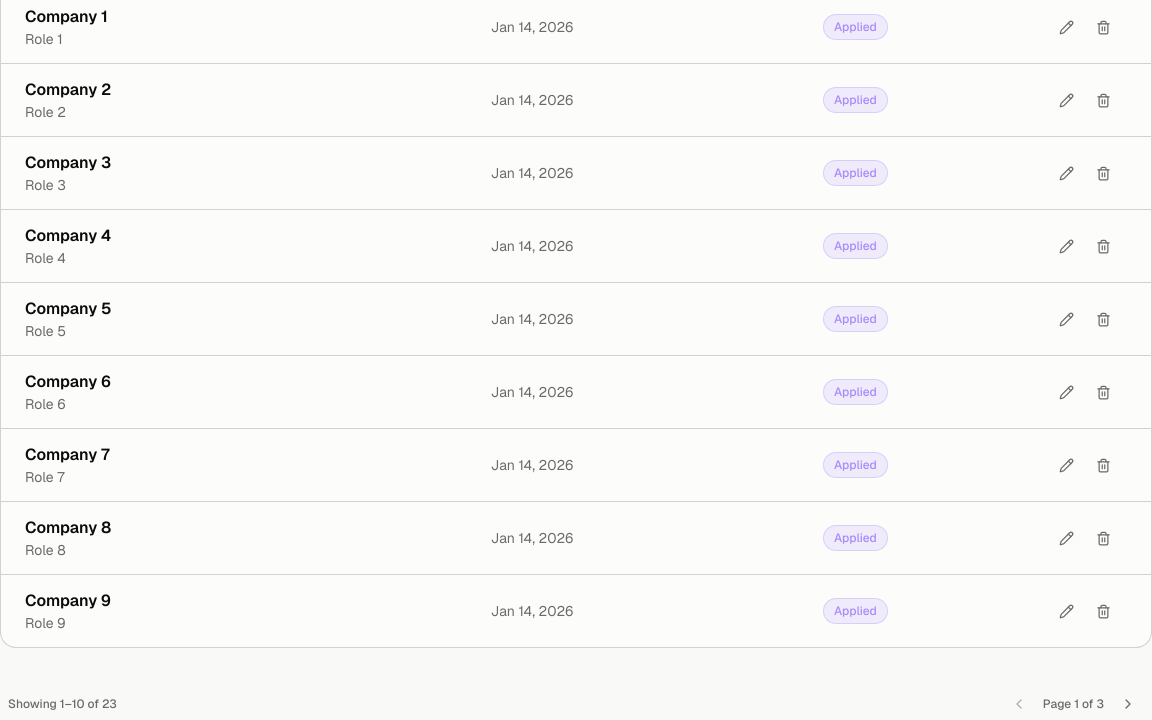
Test case: ApplicationsTable › paginates at 10 per page and moves between pages
This screenshot has width=1152, height=720.
(page scrolled)
Check: the text "Page 1 of 3" is shown, box [1043,696,1104,712]
Check: the text "Showing 1–10 of 23" is shown, box [8,696,117,712]
Click the button named "Next page" at coordinates (1128, 704), box [1112,688,1144,719]
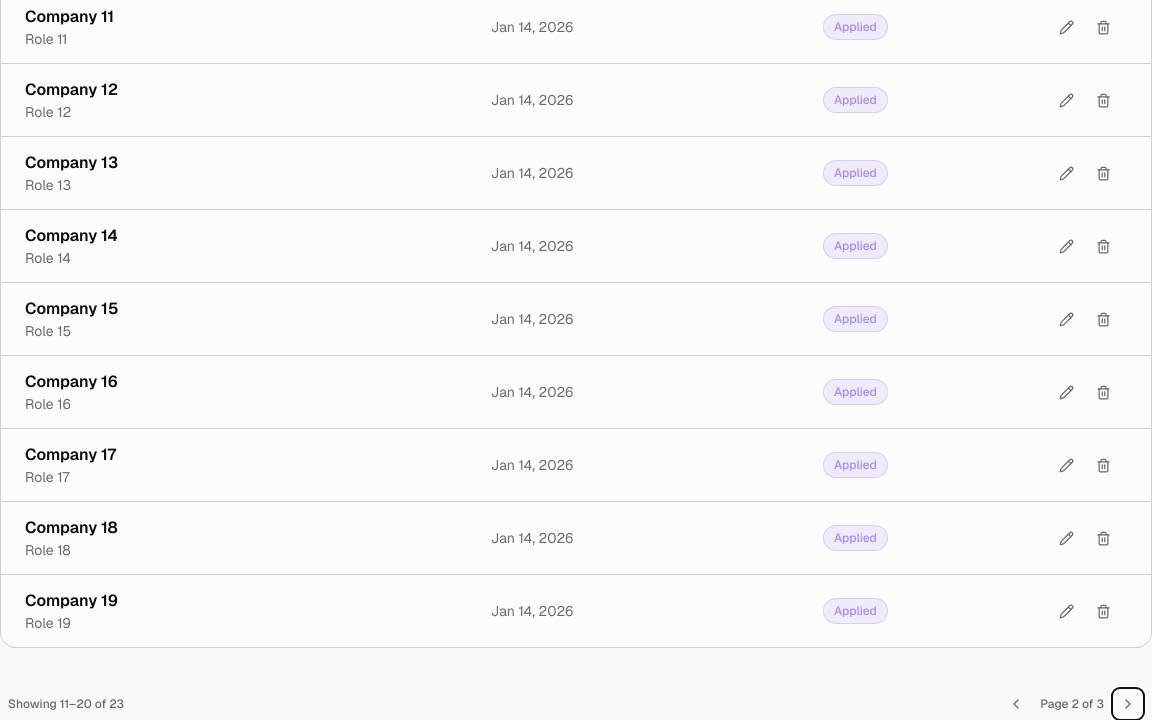
Check: the text "Page 2 of 3" is shown, box [1040,696,1104,712]
Click the button named "Previous page" at coordinates (1016, 704), box [1000,688,1032,719]
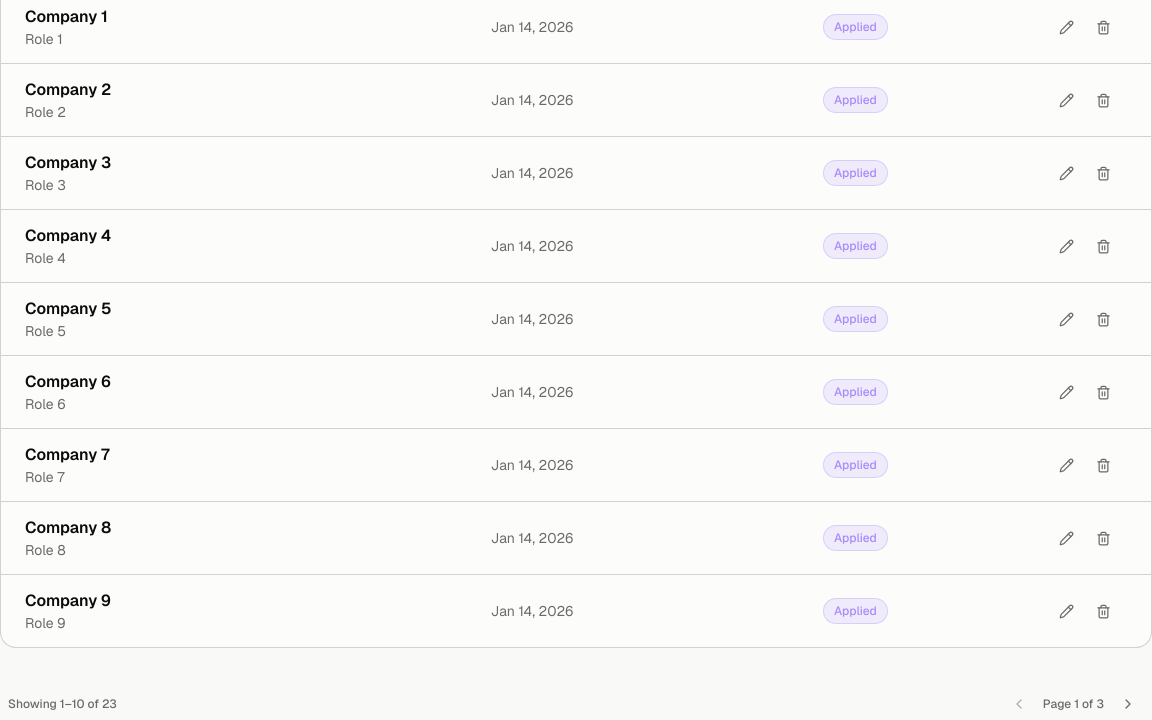
Check: the text "Page 1 of 3" is shown, box [1043,696,1104,712]
